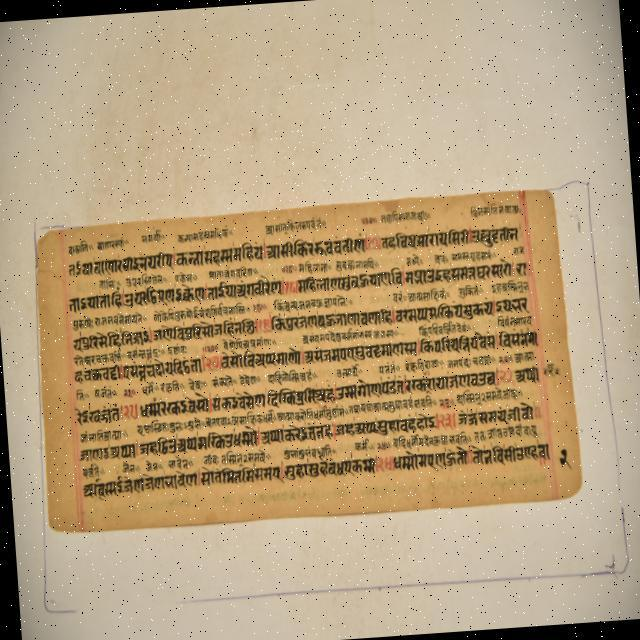text_paragraph: (37, 189, 583, 534)
